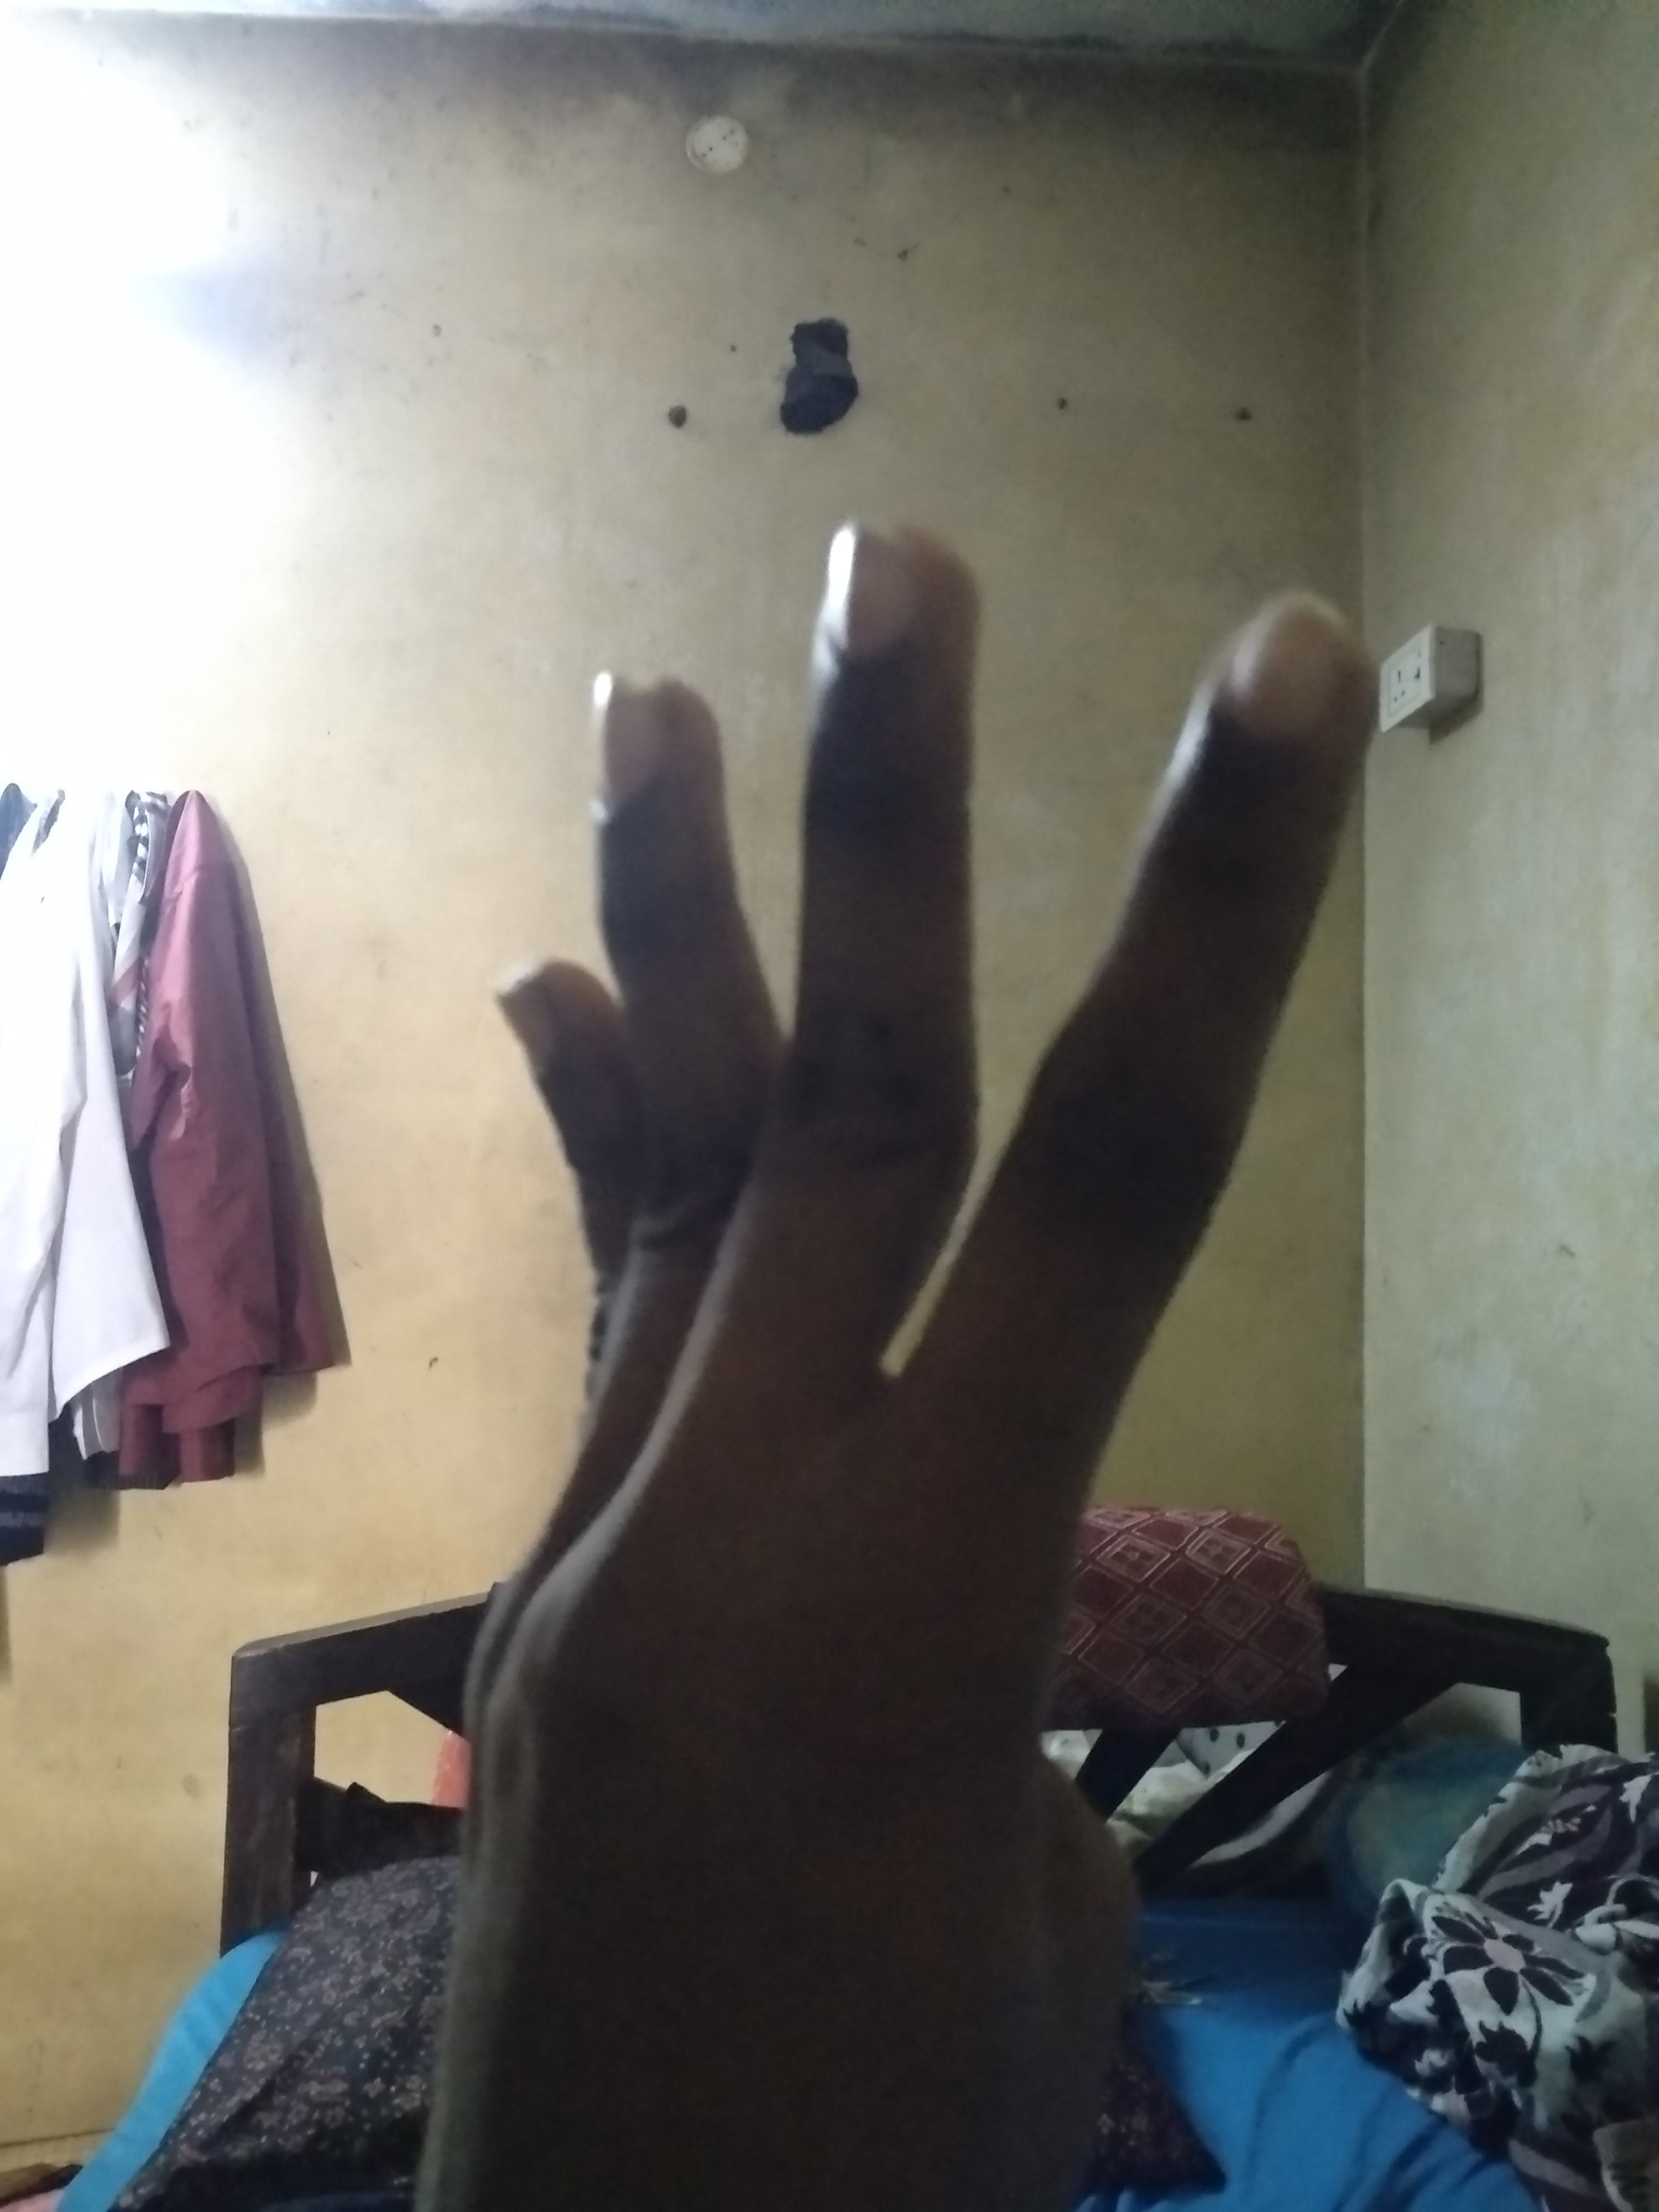four: (453, 531, 924, 1125)
